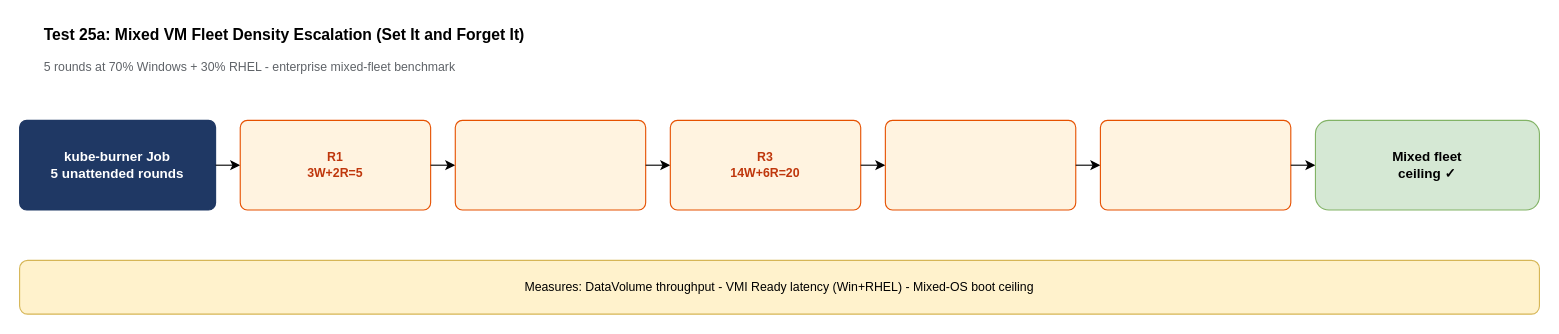
Some shapes in this 1559 by 334 pixel diagram are drawn without their labels. Each missing label, with the centre of its shape:
"R2 7W+3R=10" goes at [550,164].
"R4 21W+9R=30" goes at [980,164].
"R5 35W+15R=50" goes at [1195,164].
